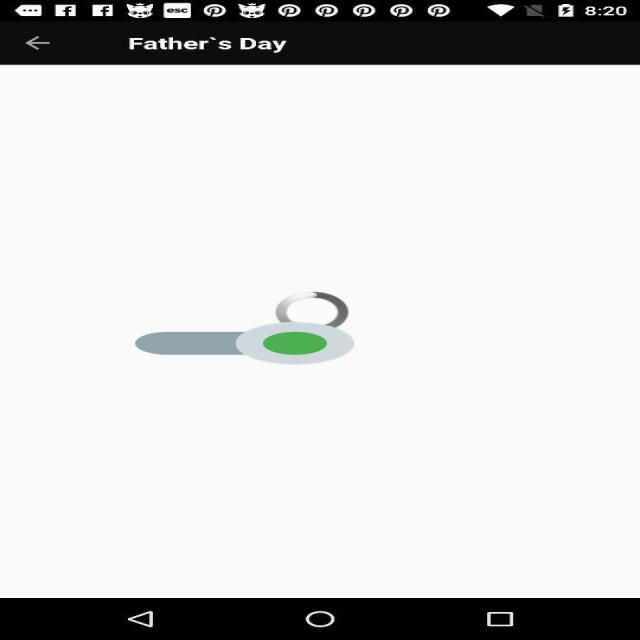social proof: (135, 304, 354, 383)
